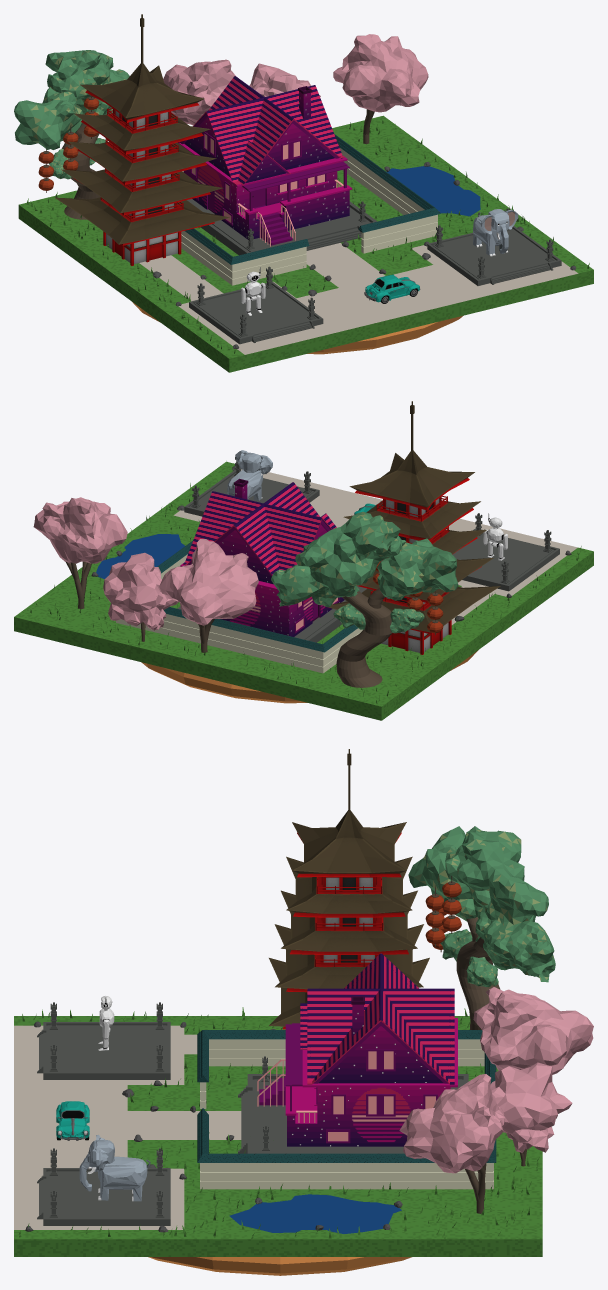
The picture shows the model from 3 angles, top to bottom: view 1: azimuth 30°, elevation 25°; view 2: azimuth 150°, elevation 25°; view 3: azimuth 270°, elevation 25°; orthographic projection. The views are drawn at different scales.
Parts seen in each view (by area): view 1: Cube.005, Cube.156, ANIMAL_ELEFANTE, UNDERGROUND_PIZZA, VEHICLES_VOLKSWAGEN, OBJRANDOM_PLATZEEBOT; view 2: Cube.005, Cube.156, UNDERGROUND_PIZZA, ANIMAL_ELEFANTE, OBJRANDOM_PLATZEEBOT; view 3: Cube.005, Cube.156, UNDERGROUND_PIZZA, ANIMAL_ELEFANTE, VEHICLES_VOLKSWAGEN.
Part boxes in pixels (x1,y1,x2,y2): Cube.005: [14, 14, 593, 372]; Cube.156: [177, 76, 352, 246]; ANIMAL_ELEFANTE: [473, 209, 518, 256]; UNDERGROUND_PIZZA: [132, 302, 463, 354]; VEHICLES_VOLKSWAGEN: [364, 274, 420, 303]; OBJRANDOM_PLATZEEBOT: [241, 267, 265, 315]; Cube.005: [14, 401, 593, 720]; Cube.156: [180, 478, 344, 636]; UNDERGROUND_PIZZA: [141, 650, 478, 703]; ANIMAL_ELEFANTE: [227, 450, 272, 500]; OBJRANDOM_PLATZEEBOT: [483, 513, 507, 560]; Cube.005: [14, 749, 593, 1256]; Cube.156: [257, 953, 457, 1146]; UNDERGROUND_PIZZA: [148, 1257, 411, 1275]; ANIMAL_ELEFANTE: [79, 1134, 150, 1201]; VEHICLES_VOLKSWAGEN: [56, 1101, 89, 1140].
Size of the model in its own units: 4528 by 2902 by 4389.
43 materials, 7 textured.
